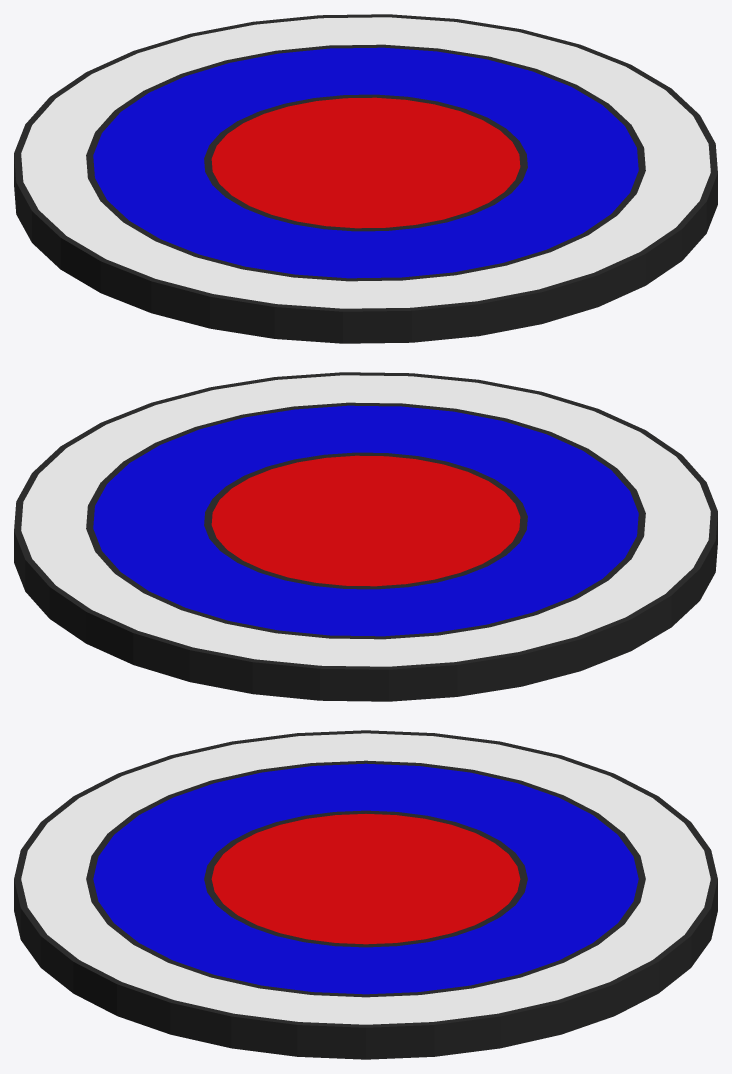
Rendered from Target_Looped.fbx.
3 views of the same model, one above another, from view 1: azimuth 30°, elevation 25°; view 2: azimuth 150°, elevation 25°; view 3: azimuth 270°, elevation 25° (orthographic).
Visible parts, largest first — view 1: Cylinder; view 2: Cylinder; view 3: Cylinder.
Boxes of the visible parts, bbox=[...] form: Cylinder: bbox=[14, 14, 717, 343]; Cylinder: bbox=[14, 372, 717, 701]; Cylinder: bbox=[14, 730, 717, 1059].
Bounding box in the file's own units: 200 × 10 × 200.
